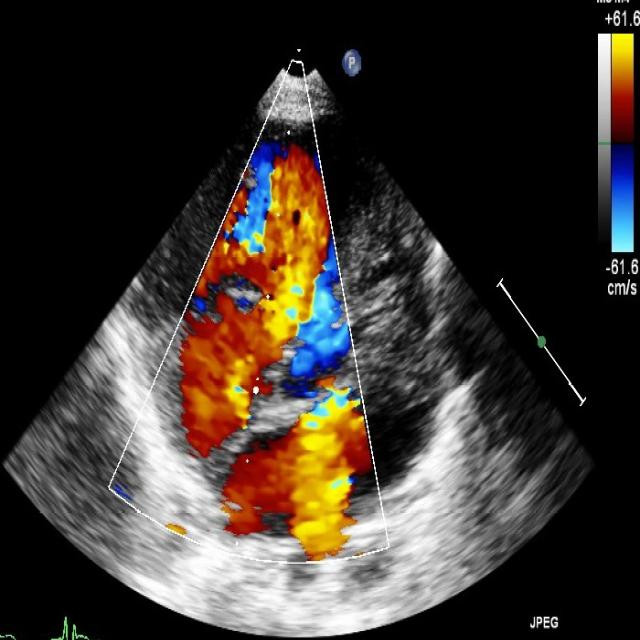VSDType2: (248, 212, 350, 380)
